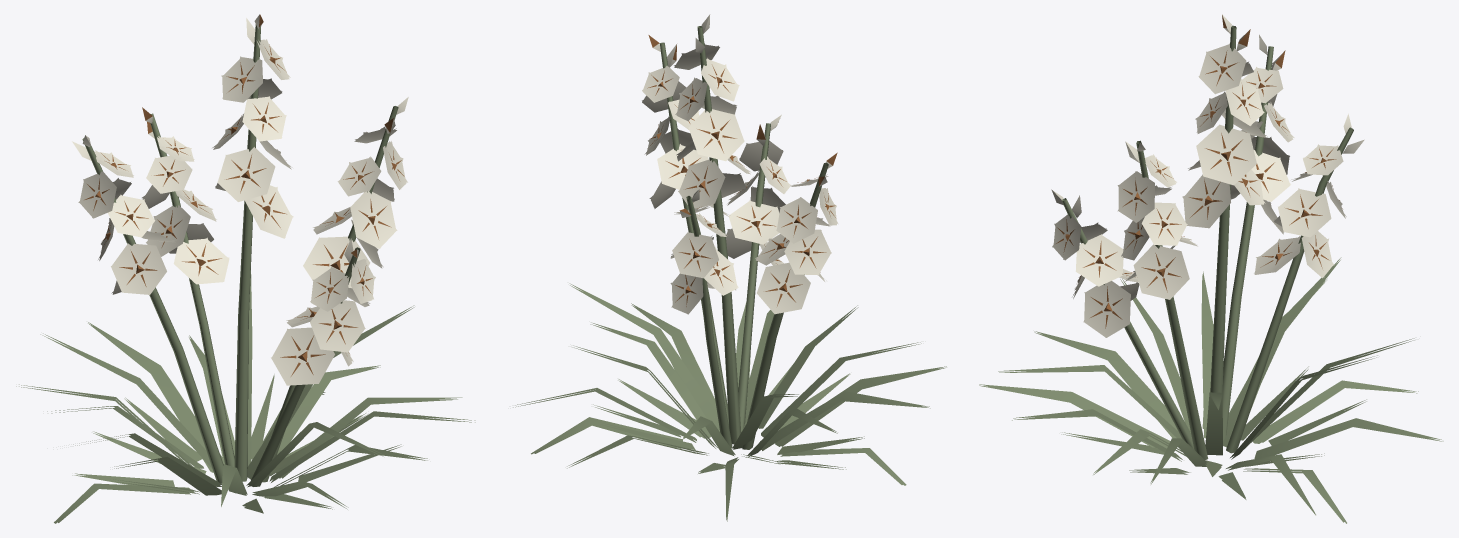
Rendered from asphodel-0.glb.
The picture shows the model from 3 angles, left to right: view 1: azimuth 30°, elevation 25°; view 2: azimuth 150°, elevation 25°; view 3: azimuth 270°, elevation 25°; orthographic projection. The views are drawn at different scales.
Visible parts, largest first — view 1: asphodel-0; view 2: asphodel-0; view 3: asphodel-0.
Boxes of the visible parts, x1,y1,x2,y2 form: asphodel-0: (16,14,475,523); asphodel-0: (513,14,946,521); asphodel-0: (979,14,1443,523).
Bounding box in the file's own units: 0.7979 × 0.875 × 0.828.
